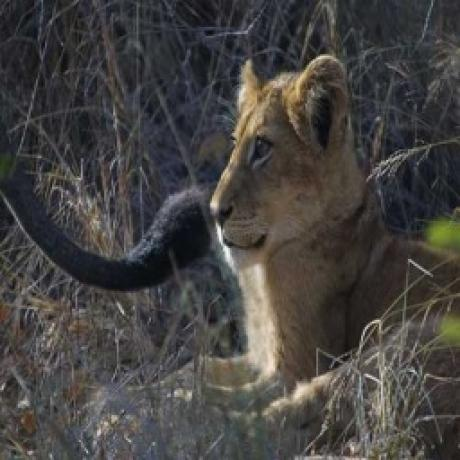Lion: (206, 52, 460, 402)
